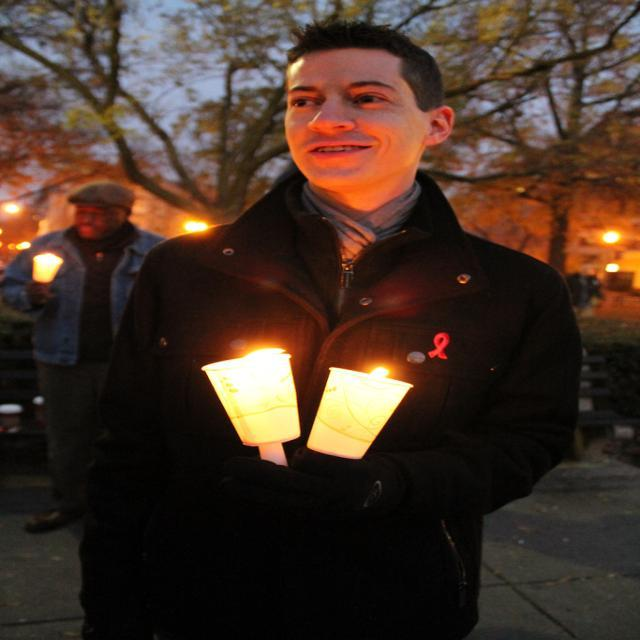Fire: (368, 362, 422, 402), (241, 342, 274, 367)
